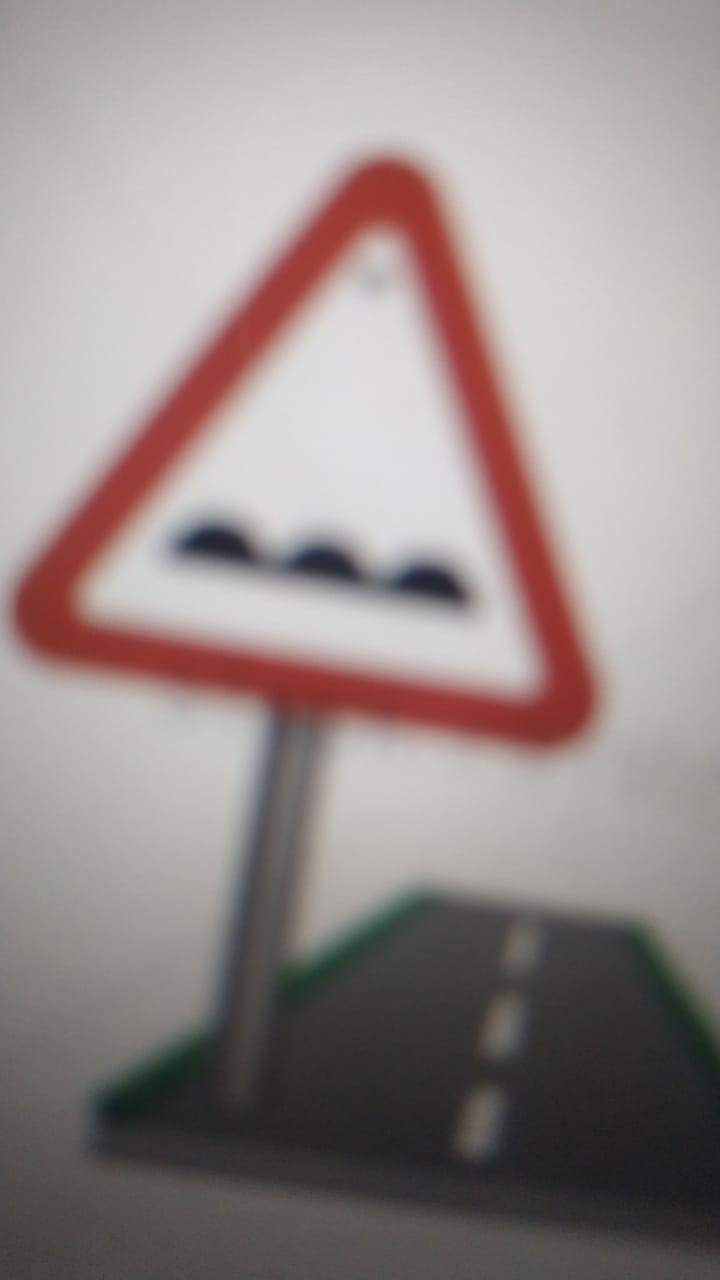UNEVEN ROAD: (1, 143, 633, 763)
